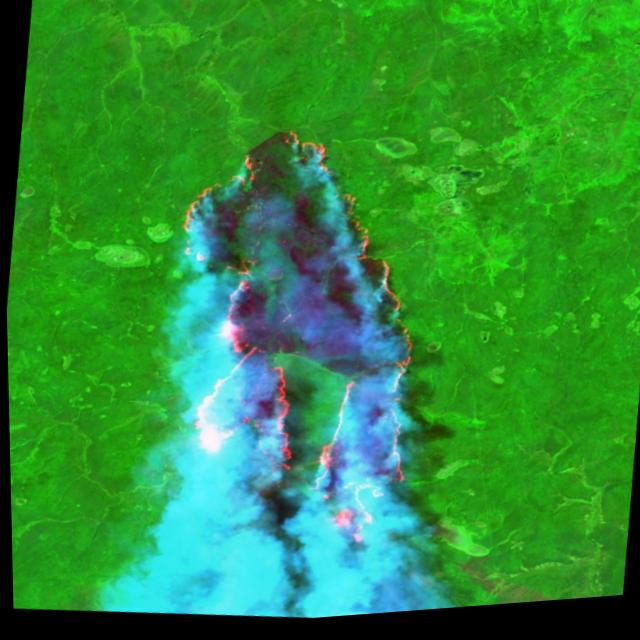fire: (140, 111, 447, 567)
